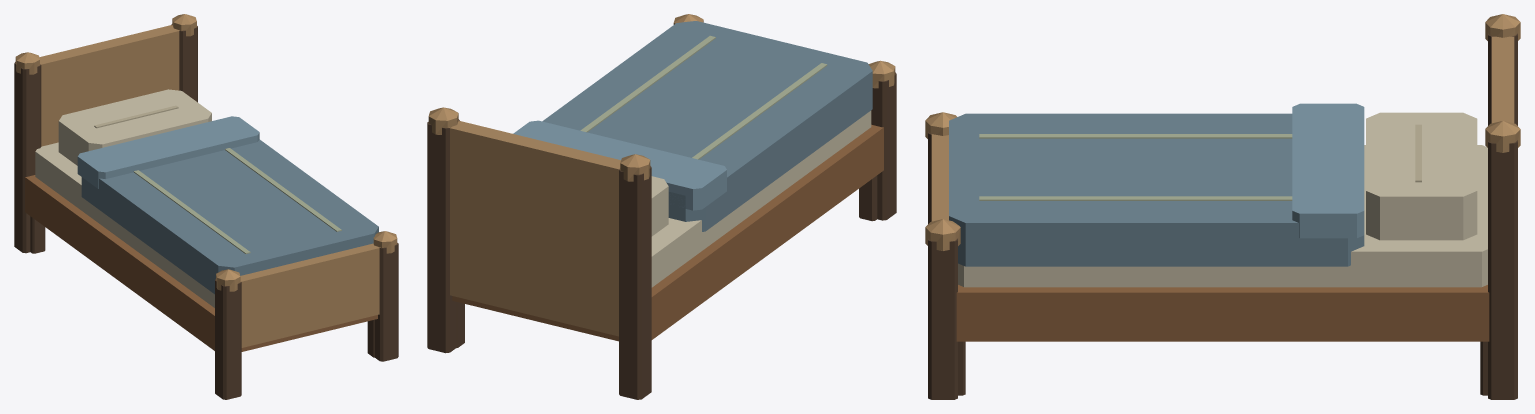
File: bed_single.glb
3 renders of one model, left to right at view 1: azimuth 30°, elevation 25°; view 2: azimuth 150°, elevation 25°; view 3: azimuth 270°, elevation 25°, orthographic. The views are drawn at different scales.
Visible parts, largest first — view 1: geometry; view 2: geometry; view 3: geometry.
Boxes of the visible parts, left/top/right/bottom form: geometry: left=14, top=14, right=398, bottom=399; geometry: left=427, top=14, right=896, bottom=399; geometry: left=925, top=14, right=1520, bottom=399.
Size of the model in its own units: 0.9578 by 1 by 1.98.
